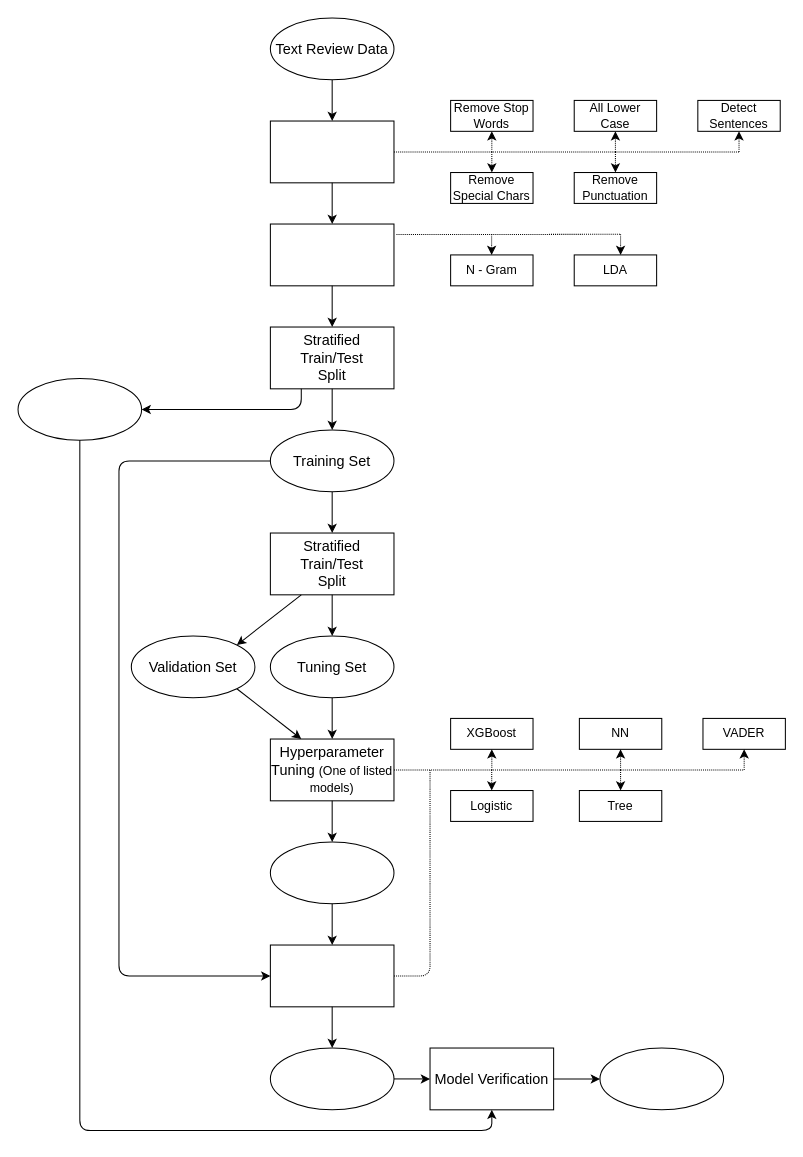
Some shapes in this 803 by 1157 pixel diagram are drawn without their labels. The centre of each missing label's shape, as x and y in pixels:
Model Score: the point at 661,1078
Optimal Model Parameters: the point at 331,872
Pre - Processing (Some or all of listed operations): the point at 331,151
Test Set: the point at 79,408
Text Analysis (One of listed methods): the point at 331,254
Train Model (One of listed models): the point at 331,975
Trained Model: the point at 331,1078
